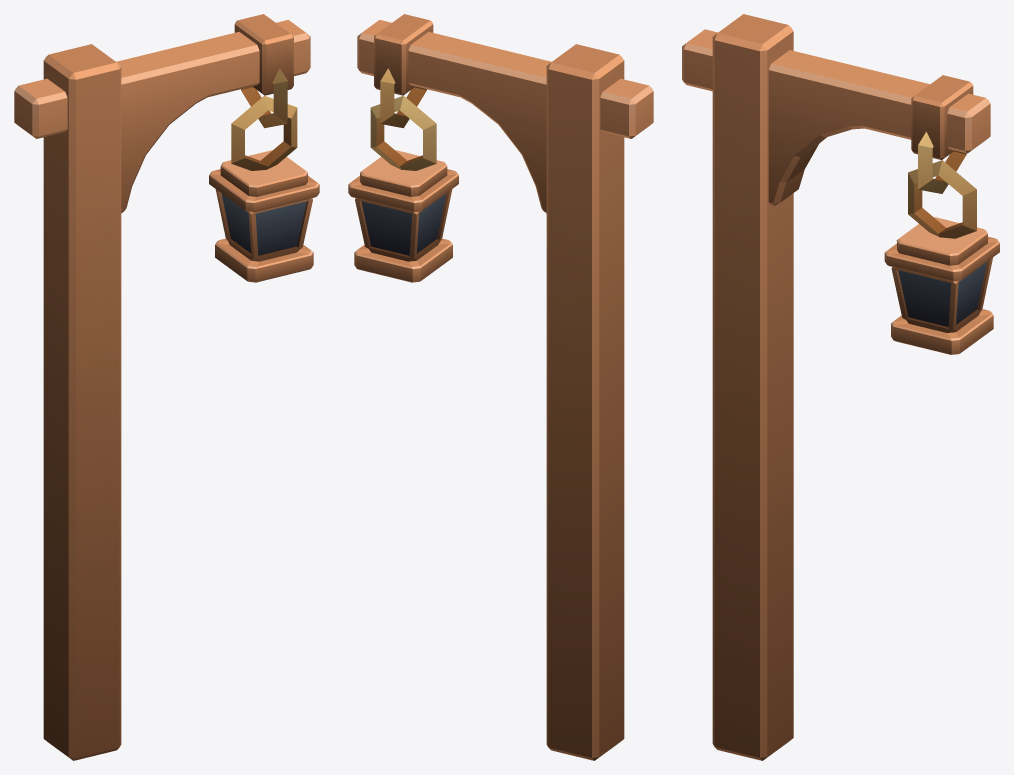
The model's file is mt_prop_slamp01.fbx.
3 renders of one model, left to right at view 1: azimuth 30°, elevation 25°; view 2: azimuth 150°, elevation 25°; view 3: azimuth 330°, elevation 25°, orthographic. The views are drawn at different scales.
Visible parts, largest first — view 1: prop_slamp01; view 2: prop_slamp01; view 3: prop_slamp01.
Part boxes in pixels (<box>): prop_slamp01: <box>14,14,319,760</box>; prop_slamp01: <box>348,14,653,760</box>; prop_slamp01: <box>682,14,999,760</box>.
Bounding box in the file's own units: 126 × 298 × 36.6.
